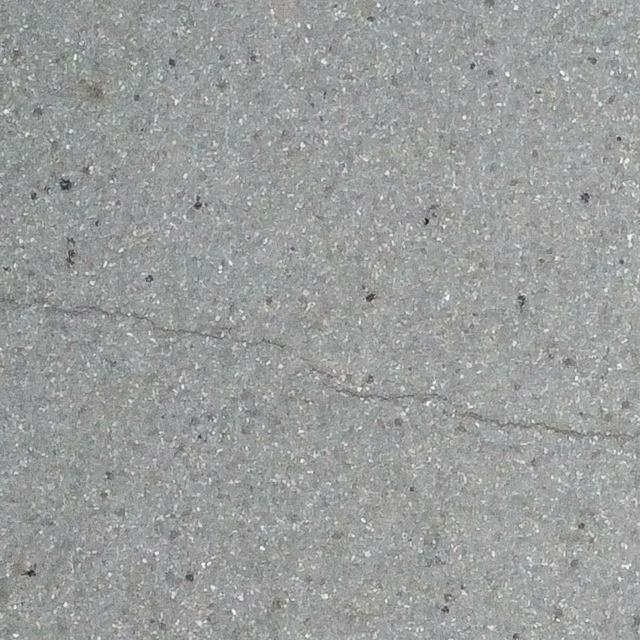TransverseCrack: (6, 296, 640, 440)
